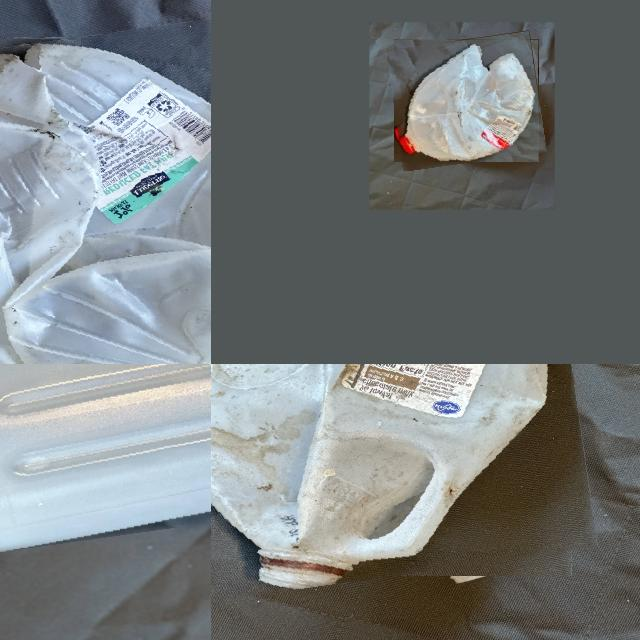milk-jug: (211, 364, 584, 588), (0, 24, 211, 364), (0, 364, 211, 543), (389, 35, 542, 166)
